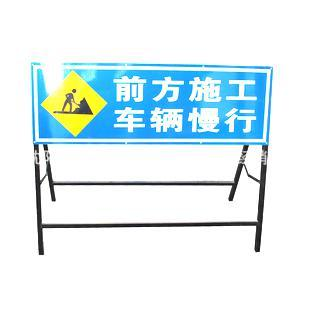sign: (29, 64, 269, 144)
